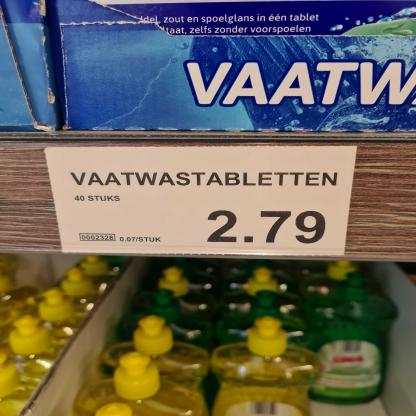prtg: (45, 147, 358, 256)
